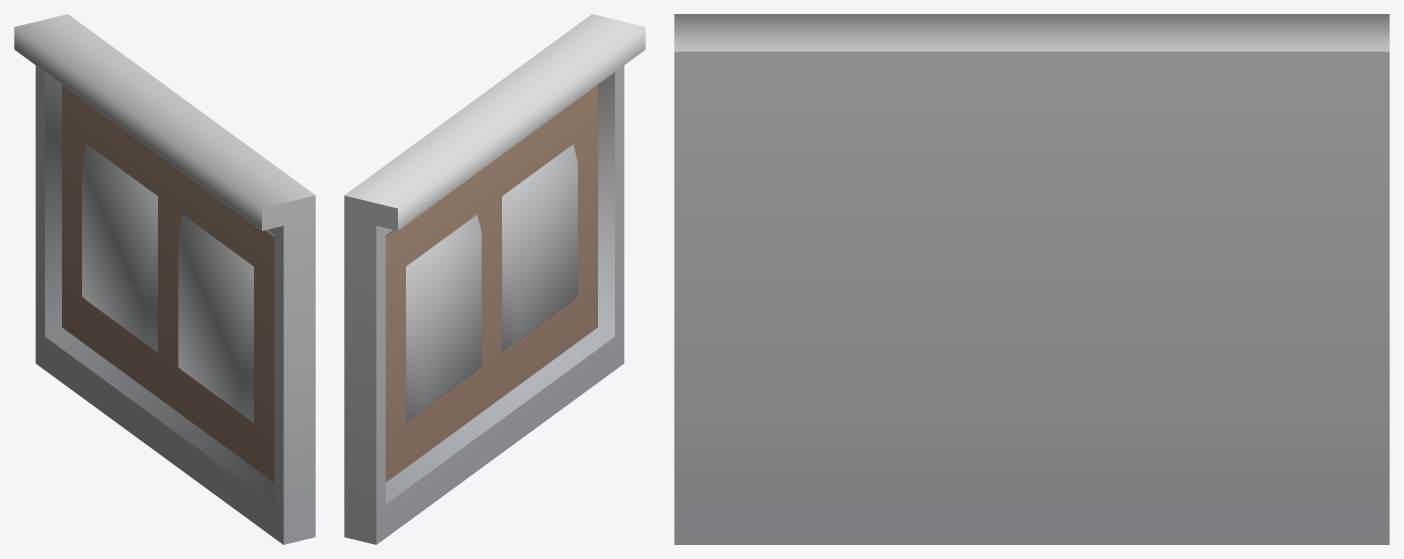
Rendered from paneling-low-b (%wall).glb.
3 renders of one model, left to right at view 1: azimuth 30°, elevation 25°; view 2: azimuth 150°, elevation 25°; view 3: azimuth 270°, elevation 25°, orthographic. The views are drawn at different scales.
Visible parts, largest first — view 1: paneling-low-b (%wall); view 2: paneling-low-b (%wall); view 3: paneling-low-b (%wall).
Part boxes in pixels (box(x1,y1,x2,y2)): paneling-low-b (%wall): box(14, 14, 315, 544); paneling-low-b (%wall): box(344, 14, 645, 544); paneling-low-b (%wall): box(674, 14, 1389, 544).
Bounding box in the file's own units: 0.125 × 0.7604 × 1.
